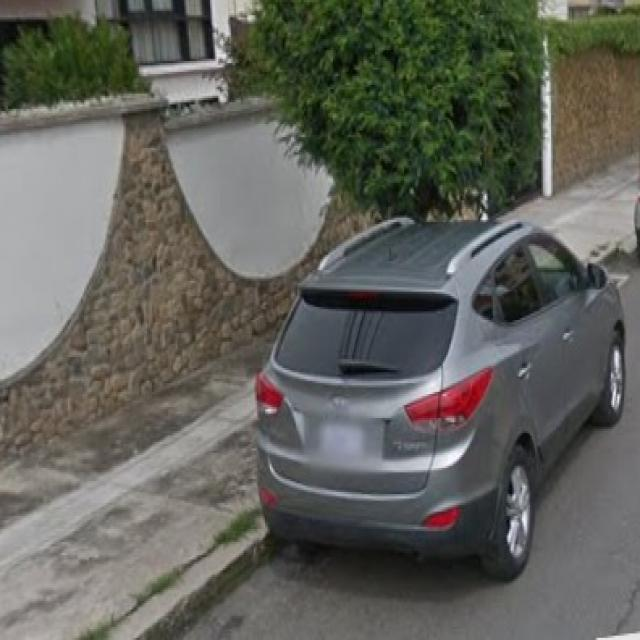cars: (253, 216, 632, 584)
